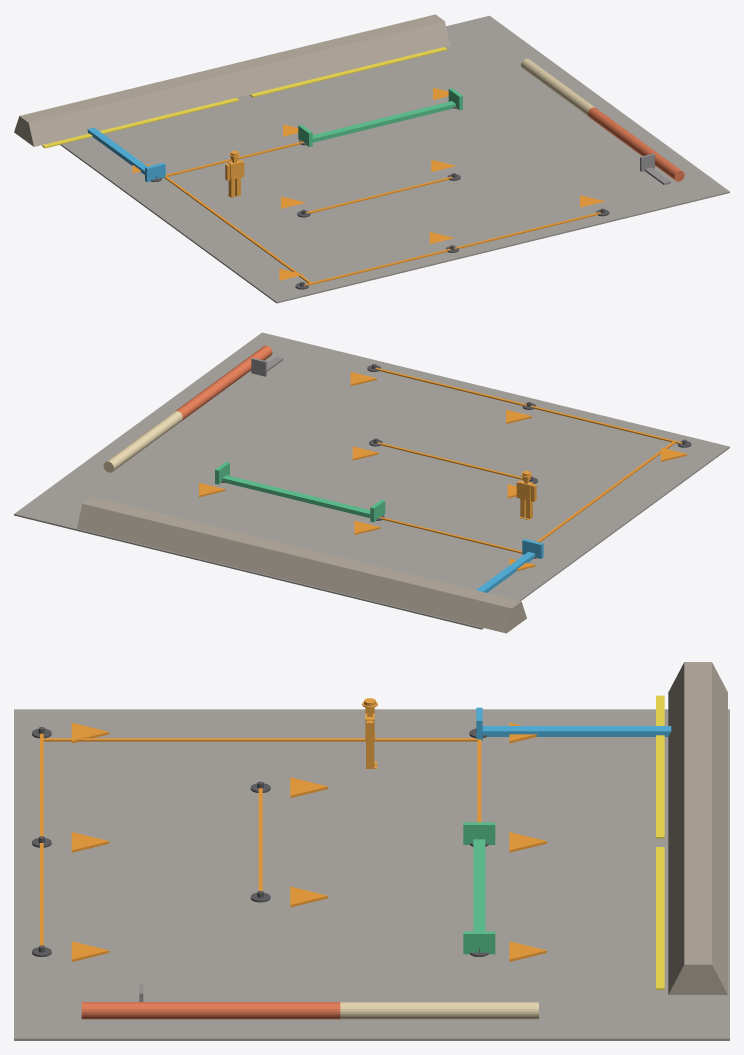
Rendered from blast-pattern.glb.
3 views of the same model, one above another, from view 1: azimuth 30°, elevation 25°; view 2: azimuth 150°, elevation 25°; view 3: azimuth 270°, elevation 25° (orthographic). The views are drawn at different scales.
Visible parts, largest first — view 1: bench_floor, crest_berm, initiation_sequence, free_face_line, spacing_marker, charge_column, stemming_zone, burden_marker, scale_figure, blasthole_collars; view 2: bench_floor, crest_berm, initiation_sequence, spacing_marker, charge_column, stemming_zone, burden_marker, scale_figure; view 3: bench_floor, crest_berm, initiation_sequence, charge_column, stemming_zone, spacing_marker, free_face_line, burden_marker, blasthole_collars, scale_figure.
Part boxes in pixels (box(x1,y1,x2,y2)): bench_floor: box(60, 15, 729, 303); crest_berm: box(14, 14, 449, 146); initiation_sequence: box(132, 88, 604, 285); free_face_line: box(42, 47, 447, 148); spacing_marker: box(298, 88, 462, 146); charge_column: box(587, 107, 684, 181); stemming_zone: box(521, 58, 594, 116); burden_marker: box(87, 127, 165, 182); scale_figure: box(225, 150, 244, 197); blasthole_collars: box(151, 106, 609, 289); bench_floor: box(14, 332, 729, 629); crest_berm: box(77, 496, 526, 633); initiation_sequence: box(199, 367, 687, 570); spacing_marker: box(215, 461, 385, 522); charge_column: box(175, 345, 272, 420); stemming_zone: box(103, 411, 182, 472); burden_marker: box(476, 539, 543, 592); scale_figure: box(516, 470, 536, 520); bench_floor: box(14, 709, 729, 1040); crest_berm: box(668, 662, 727, 994); initiation_sequence: box(40, 722, 546, 961); charge_column: box(81, 1002, 340, 1019); stemming_zone: box(340, 1002, 538, 1019); spacing_marker: box(463, 822, 495, 954); free_face_line: box(656, 695, 664, 989); burden_marker: box(476, 707, 671, 740); blasthole_collars: box(32, 727, 488, 956); scale_figure: box(362, 698, 377, 768).
Size of the model in its own units: 20.6 by 1.86 by 18.
